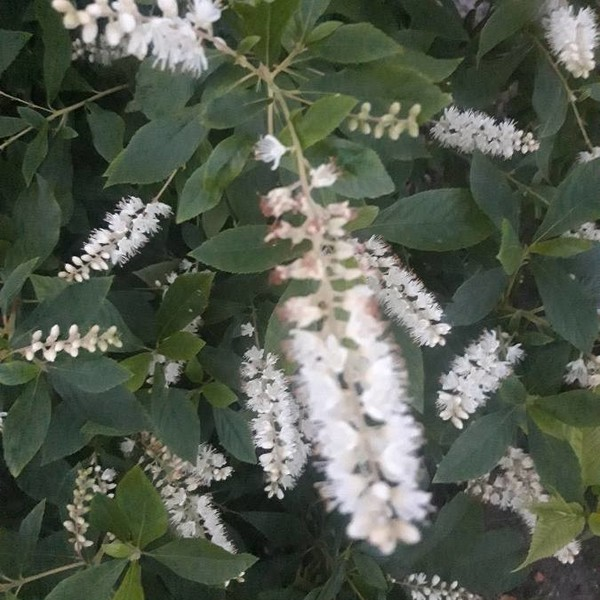obstacle: (89, 2, 498, 530)
